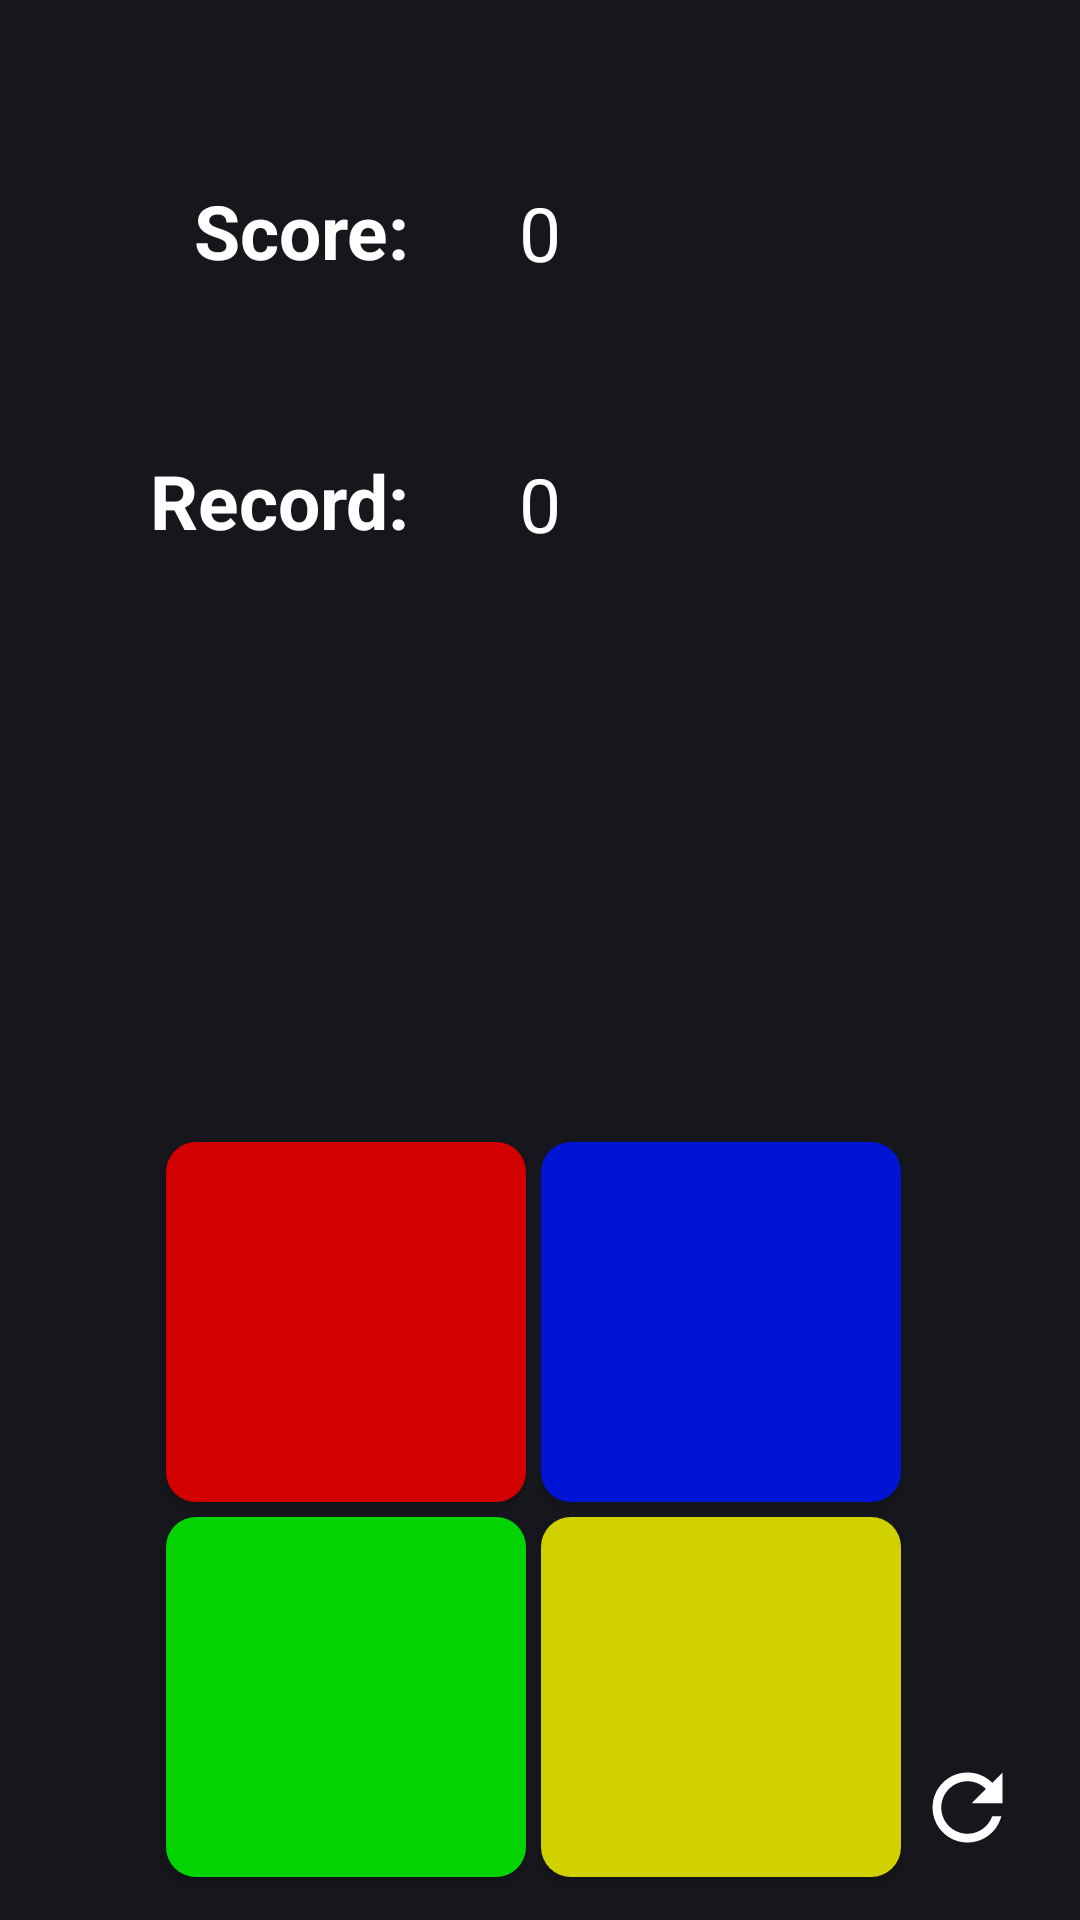

Screen size 1080*1920. Icon name, then its center in pixels as [x,y]:
reiniciar: [967,1807]
